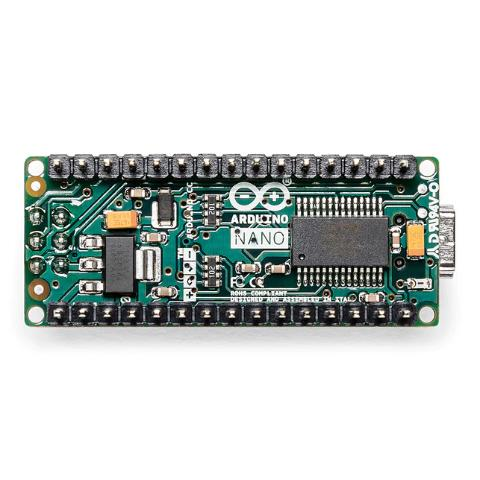Arduino-Nano: (13, 143, 459, 333)
